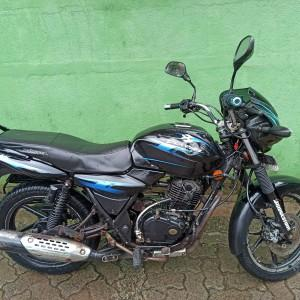motorbike: (1, 35, 300, 282)
